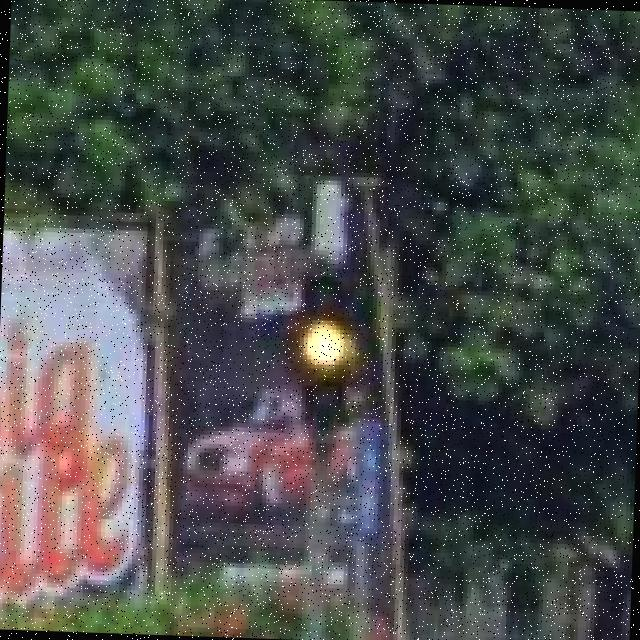Zolte swiatlo: (292, 266, 358, 422)
